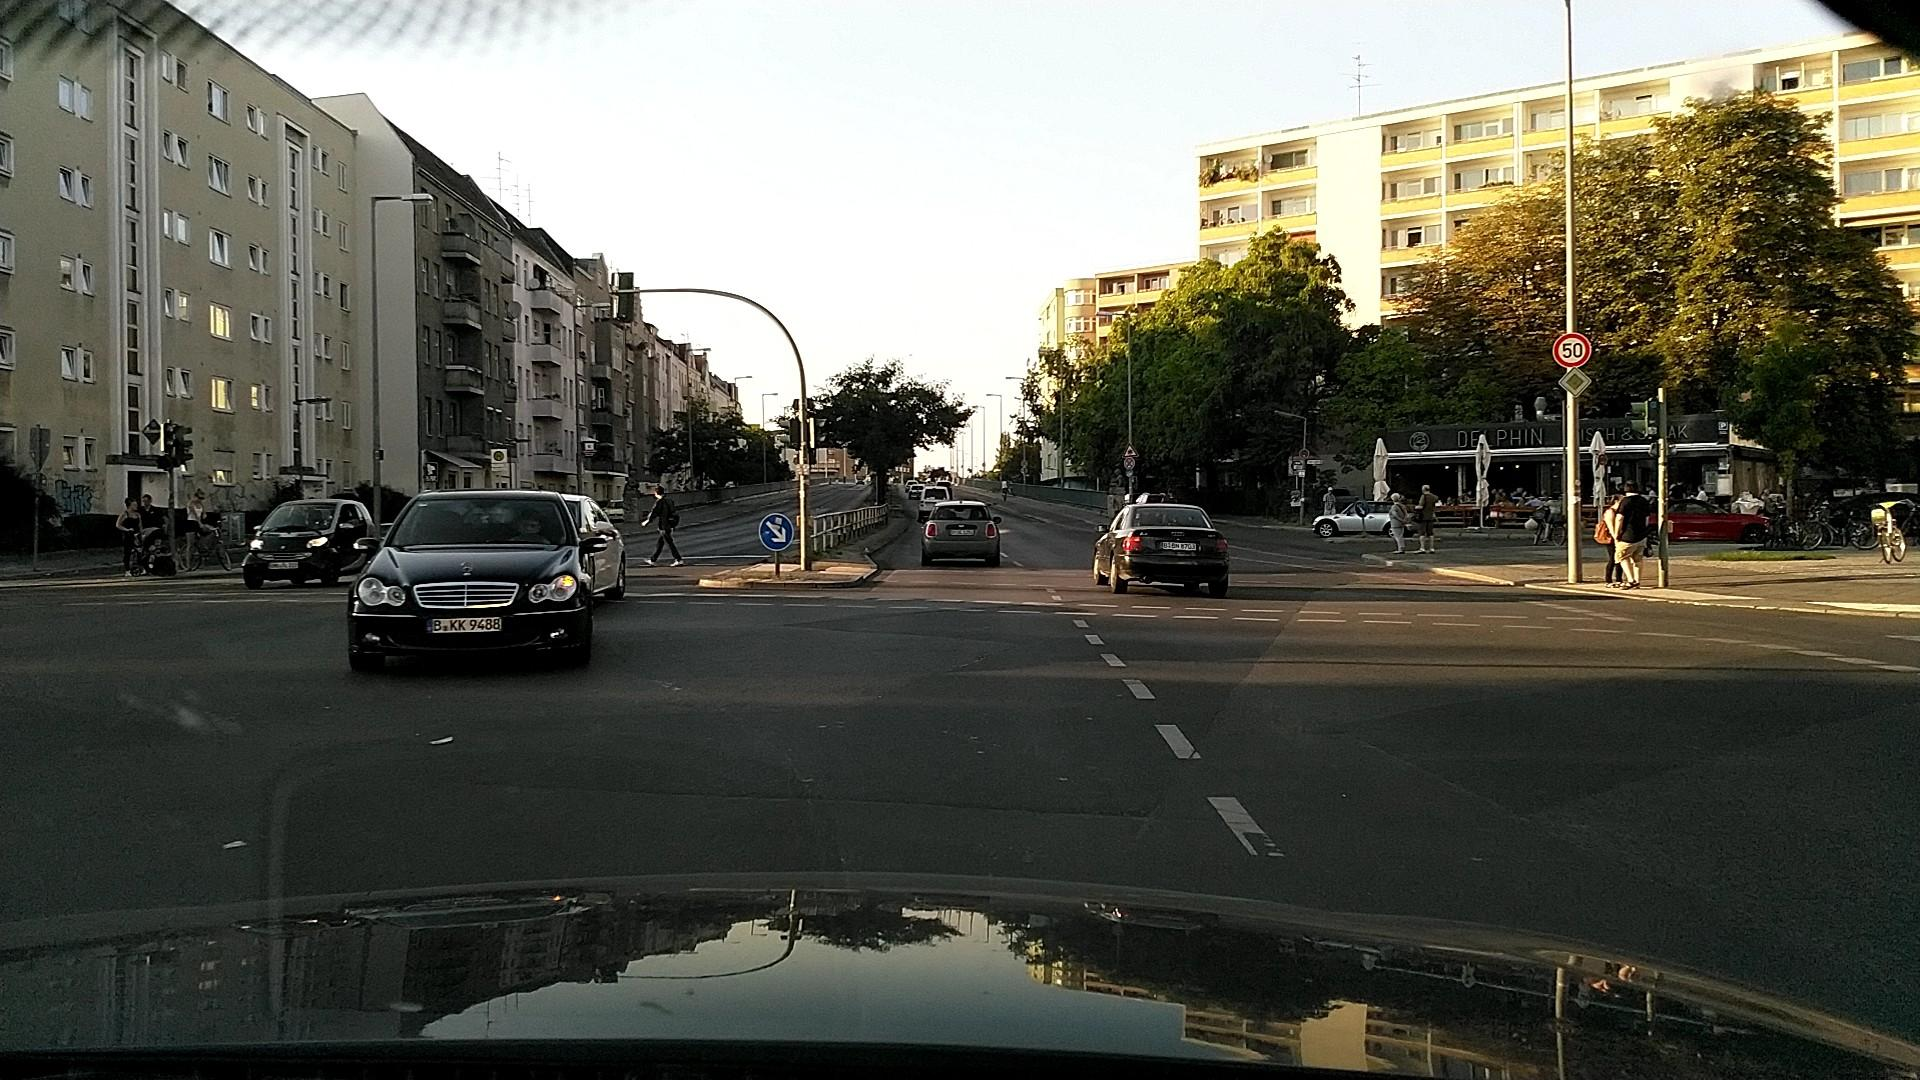Human face: (516, 511, 544, 536), (126, 500, 138, 511), (653, 488, 663, 500), (193, 493, 205, 504), (142, 495, 151, 507), (1327, 486, 1333, 496)
Vehicle registration plate: (424, 617, 502, 634), (1158, 541, 1196, 551), (267, 561, 298, 569), (949, 529, 975, 536)
